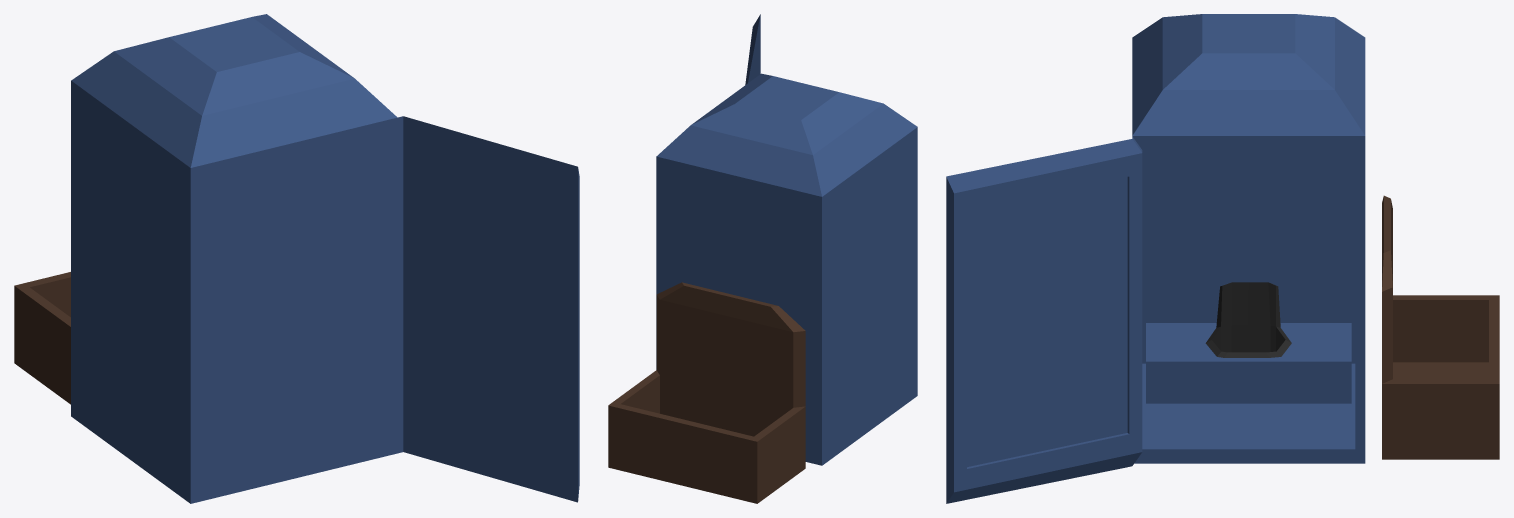
File: vessa.fbx
3 views of the same model, side by side, from view 1: azimuth 30°, elevation 25°; view 2: azimuth 150°, elevation 25°; view 3: azimuth 270°, elevation 25° (orthographic). The views are drawn at different scales.
Parts seen in each view (by area): view 1: Cube, Cube.005; view 2: Cube, Cube.005; view 3: Cube, Cube.005.
Boxes of the visible parts, x1,y1,x2,y2 form: Cube: (71,14,579,503); Cube.005: (14,272,70,404); Cube: (656,14,917,465); Cube.005: (608,282,805,503); Cube: (946,14,1365,503); Cube.005: (1382,195,1499,459).
Bounding box in the file's own units: 569 × 713 × 939.
